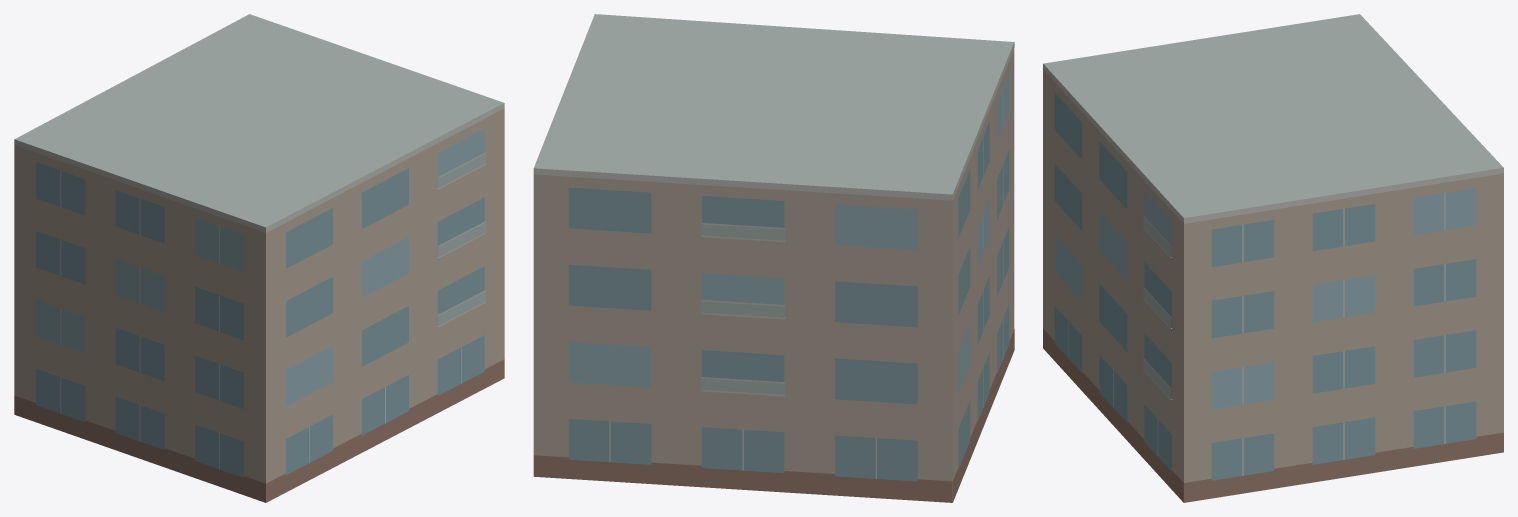
The model's file is survey-upis-32599924.glb.
The picture shows the model from 3 angles, left to right: view 1: azimuth 30°, elevation 25°; view 2: azimuth 150°, elevation 25°; view 3: azimuth 270°, elevation 25°; orthographic projection. The views are drawn at different scales.
Parts seen in each view (by area): view 1: survey-upis-32599924.tmp; view 2: survey-upis-32599924.tmp; view 3: survey-upis-32599924.tmp.
Boxes of the visible parts, x1=… form: survey-upis-32599924.tmp: x1=14, y1=14, x2=504, y2=502; survey-upis-32599924.tmp: x1=533, y1=14, x2=1014, y2=502; survey-upis-32599924.tmp: x1=1043, y1=14, x2=1503, y2=502.
Size of the model in its own units: 18.78 by 12.2 by 17.9.
